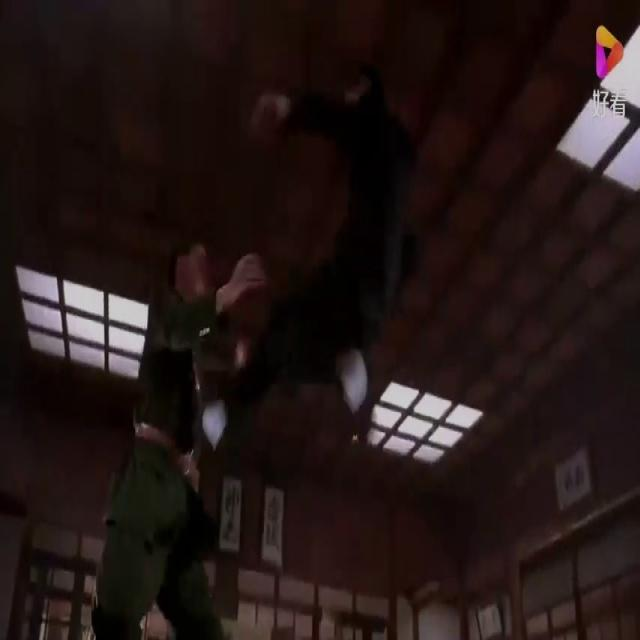fight: (90, 54, 423, 640)
